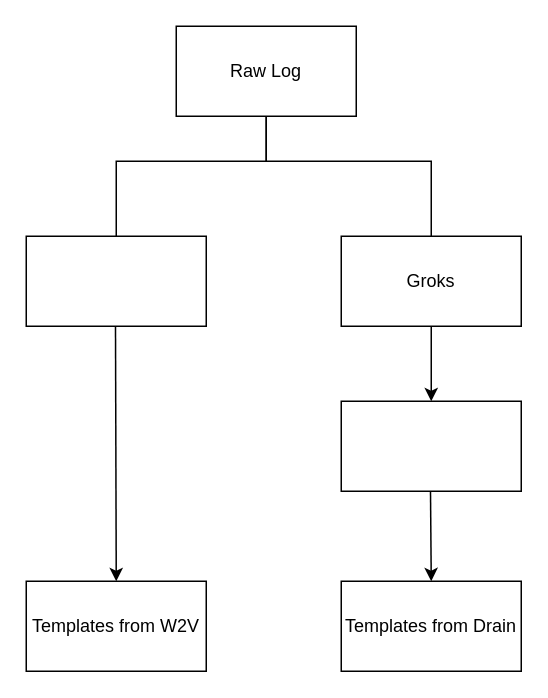
Image size: 548x698. Some labels were removed from this diagram. Here are the shapes that lost their labels. From the top down, the box of each, then its label:
(25, 235, 206, 326): Word2Vec
(340, 400, 521, 491): Drain
